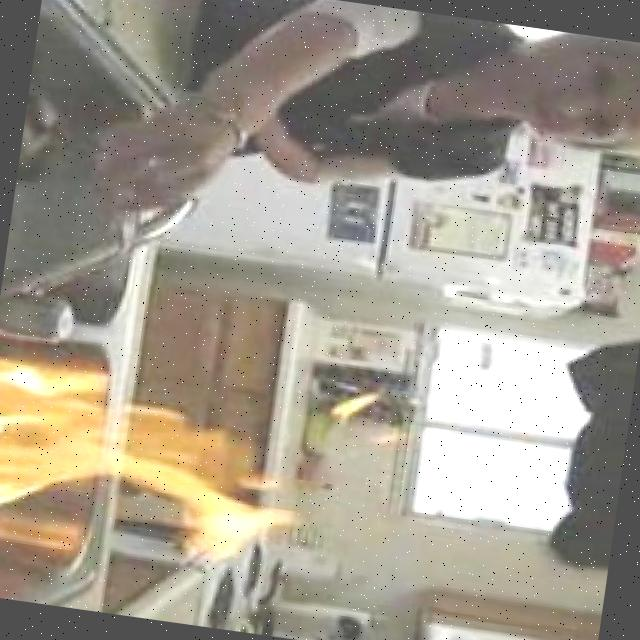fire: (0, 343, 294, 580), (327, 390, 402, 450)
